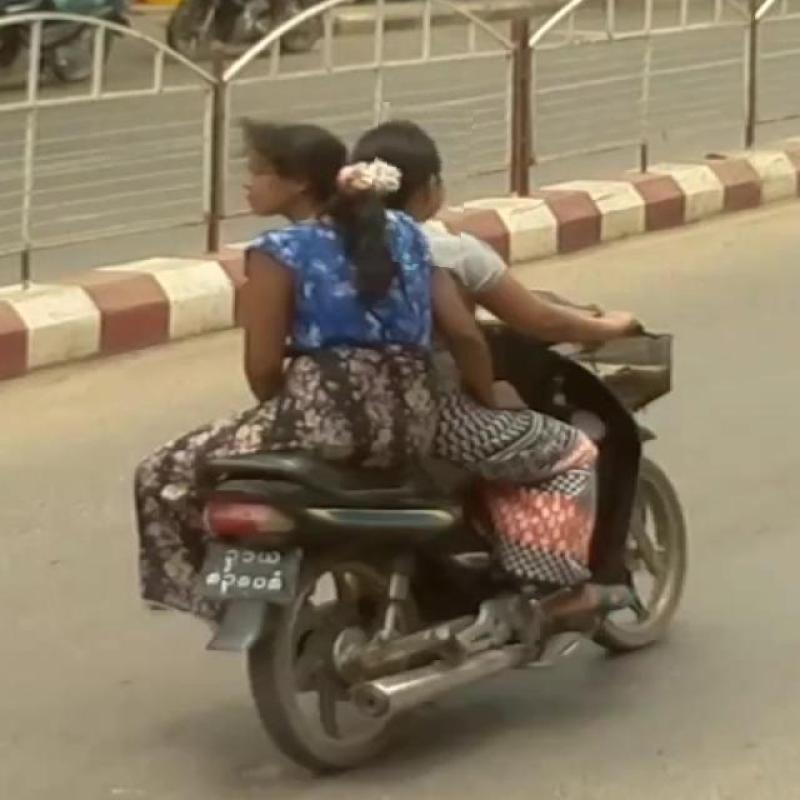nohelmet: (200, 104, 351, 272), (368, 104, 470, 266)
